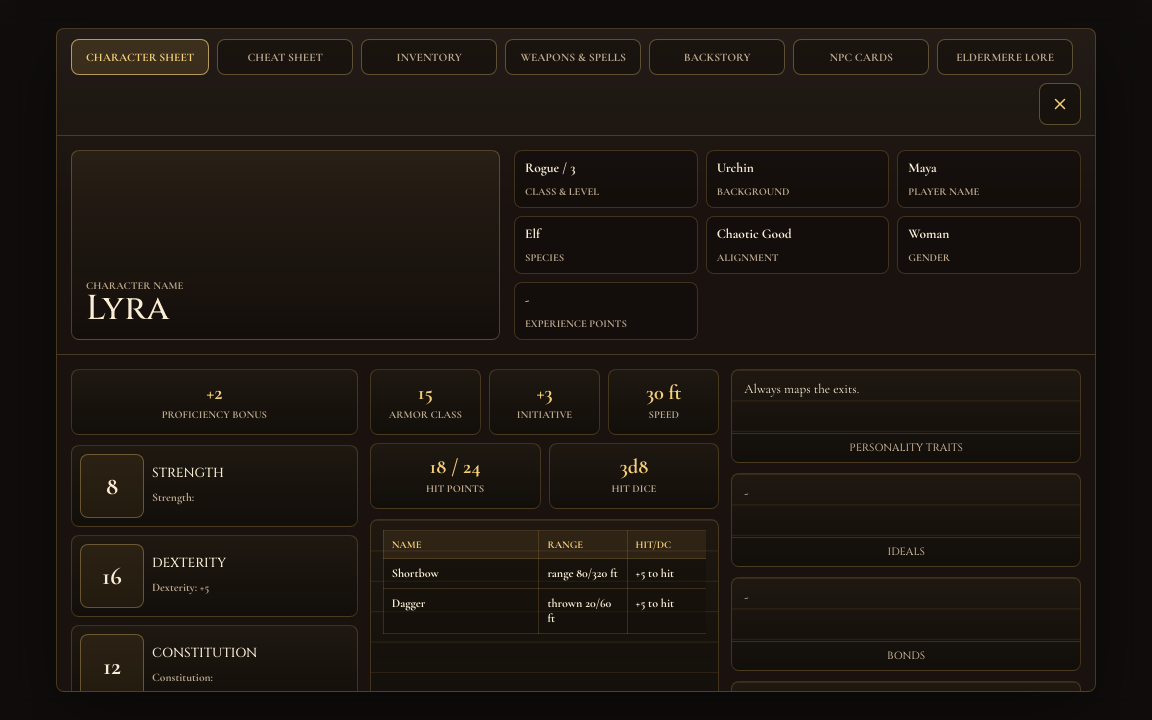
Test: CharacterSheetOverlay › renders NPC cards from context chunks and opens editable NPC fields
Later steps or results of the test are not shown.
Click the tab "NPC Cards". click: (861, 57)
box: [793,39,929,75]
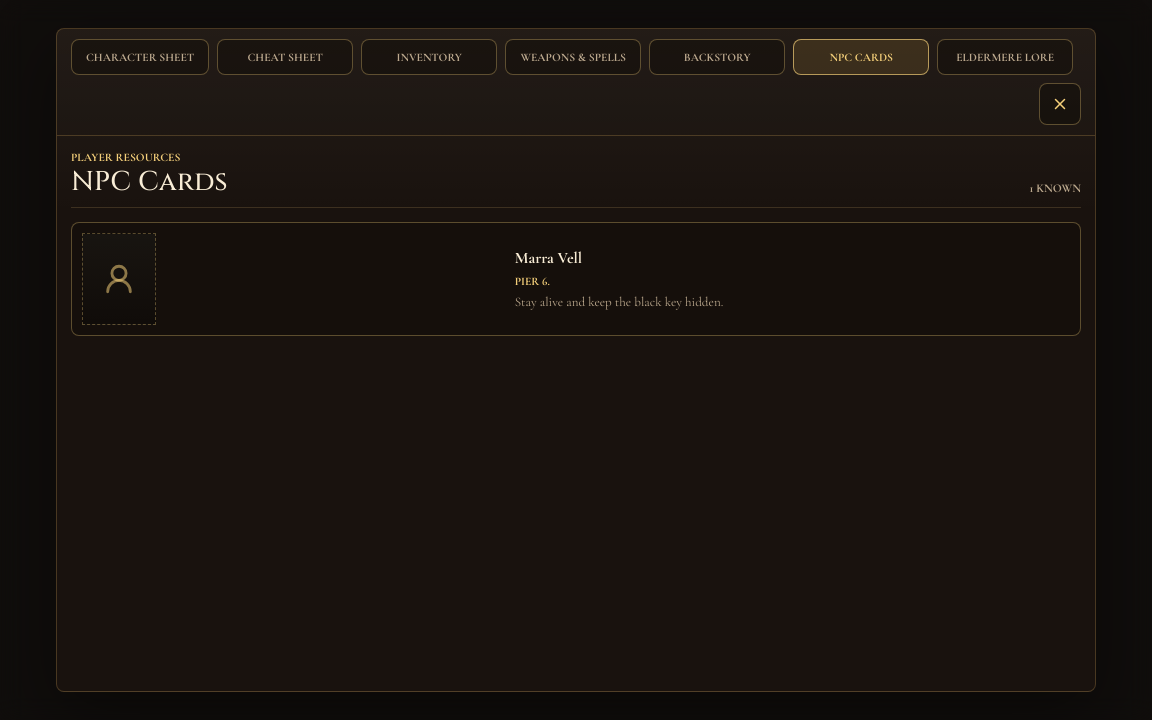
Now the text "1 known" is shown, box [1030,181,1081,195]
Now the button "Marra Vell Pier 6. Stay alive and keep the black key hidden." is shown
Now the text "Pier 6." is shown, box [515,274,550,288]
Click the button "Marra Vell Pier 6. Stay alive and keep the black key hidden.". click: (119, 279)
box: [71,222,1081,336]
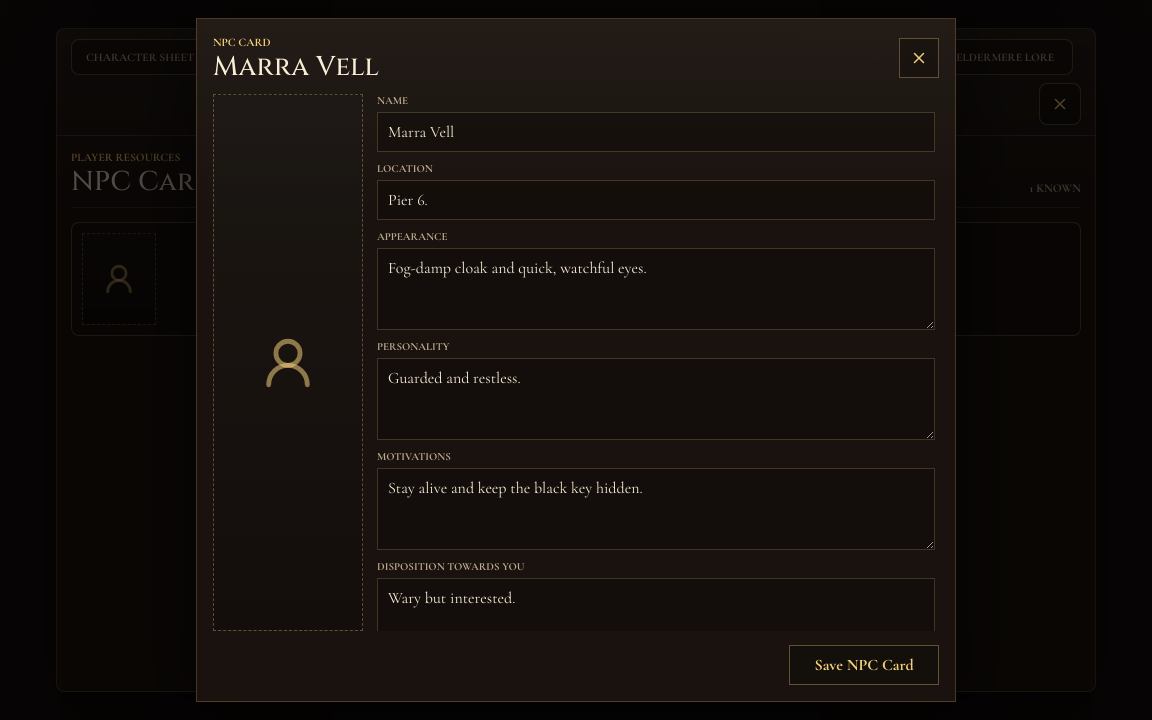
Now the text box labelled "Appearance" holds "Fog-damp cloak and quick, watchful eyes.", box [377,248,935,330]
Now the field labelled "Location" holds "Pier 6.", box [377,180,935,220]
Replace the text in the text box labelled "Motivations" with "Trust the party enough to ask for help.". click: (656, 509)
box: [377,468,935,550]
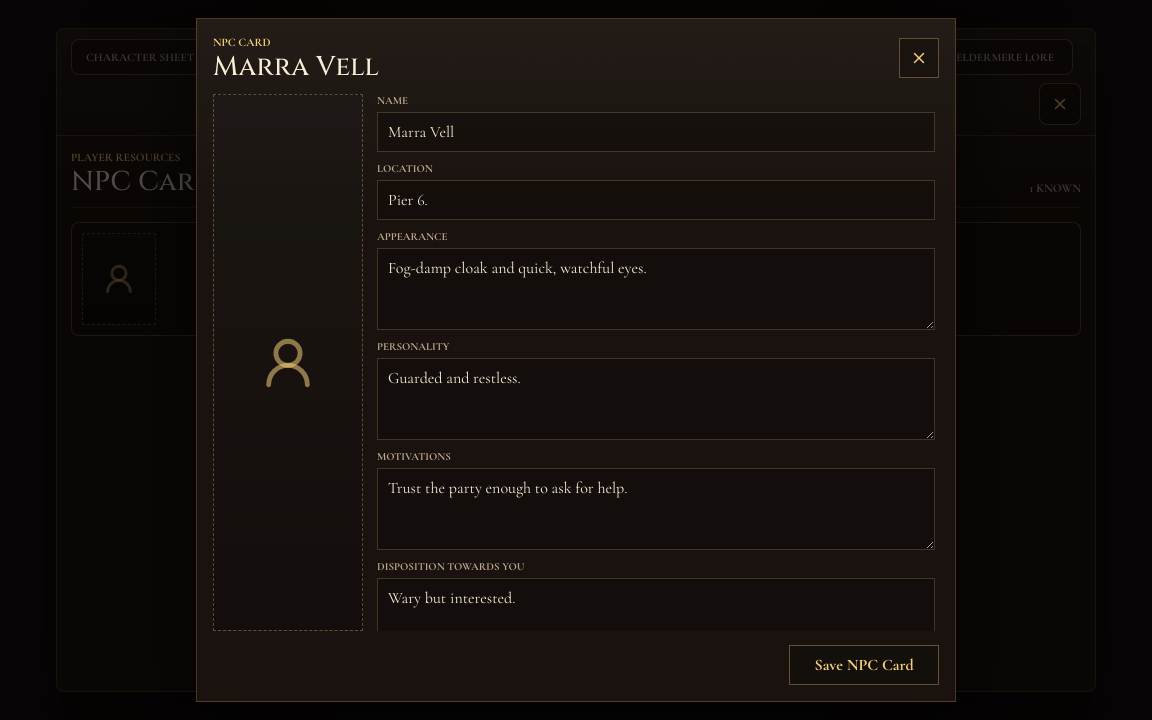
Click the button "Save NPC Card". click: (864, 665)
box: [789,645,939,685]
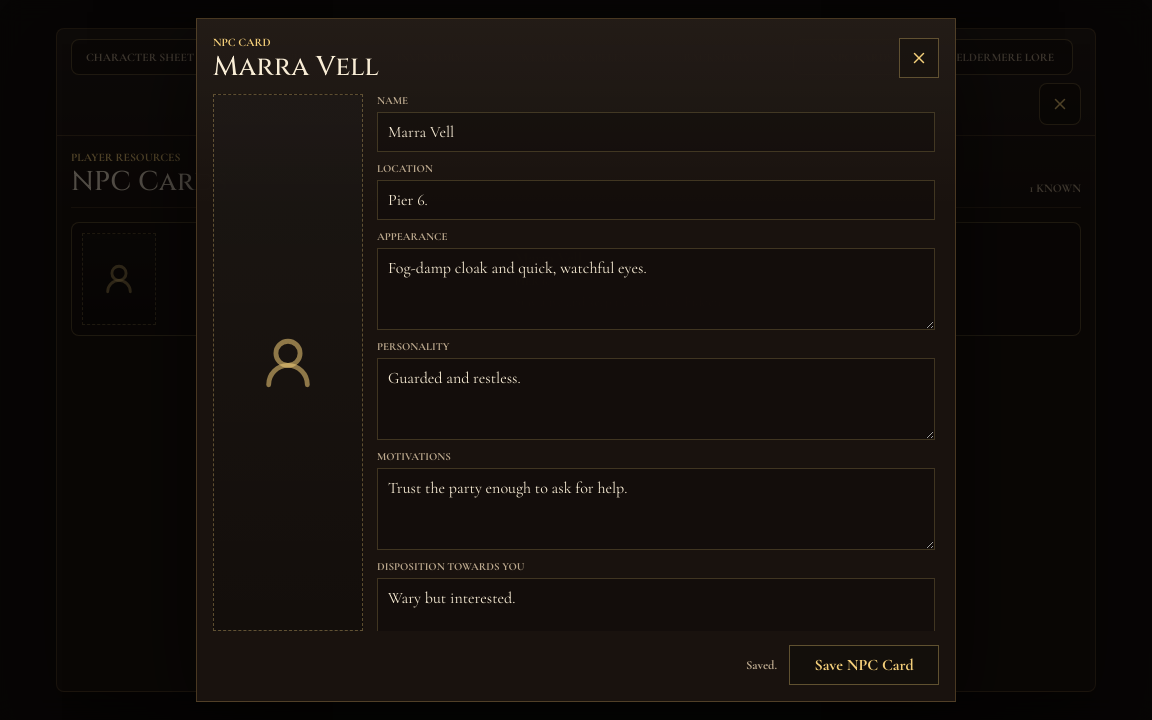
Now the text "Saved." is shown, box [746,657,777,673]
